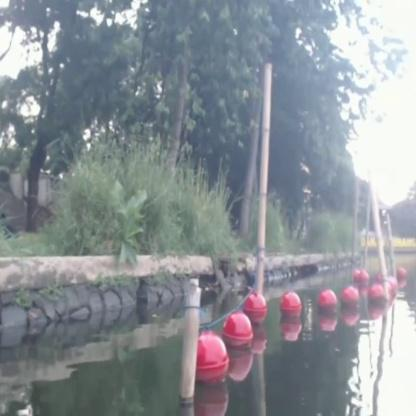red_buoy: (196, 334, 226, 378), (222, 312, 252, 354), (280, 288, 301, 323), (248, 295, 264, 326), (318, 292, 336, 318), (368, 280, 384, 308), (343, 287, 358, 309), (354, 266, 368, 283), (396, 267, 406, 284)
